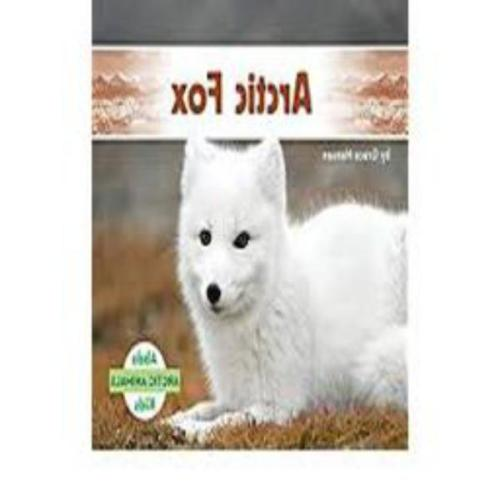arctic_fox-endangered: (162, 146, 402, 438)
